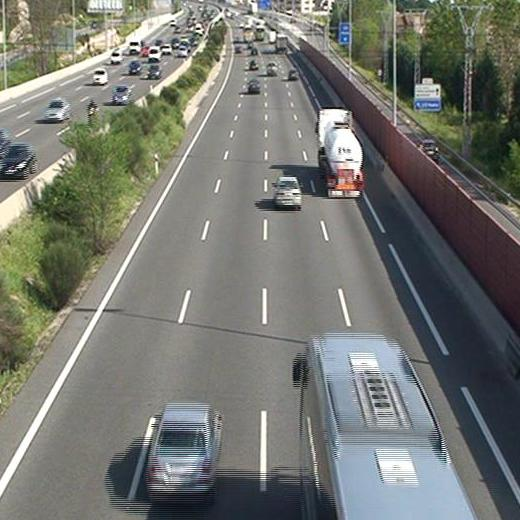car: (148, 402, 218, 498), (274, 177, 303, 209), (266, 61, 279, 76), (247, 79, 261, 92), (248, 59, 259, 71), (287, 68, 297, 80)
tank-truck: (317, 108, 363, 198)
